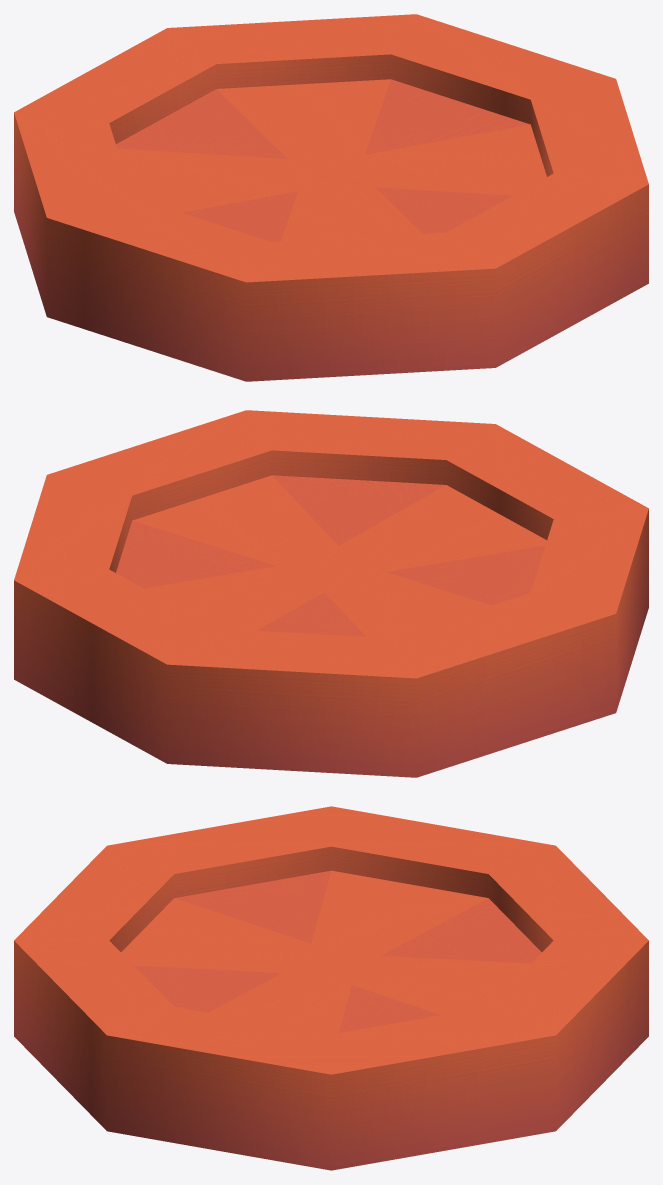
Rendered from tomato-slice.glb.
3 views of the same model, one above another, from view 1: azimuth 30°, elevation 25°; view 2: azimuth 150°, elevation 25°; view 3: azimuth 270°, elevation 25° (orthographic). The views are drawn at different scales.
Visible parts, largest first — view 1: tomato-slice; view 2: tomato-slice; view 3: tomato-slice.
Boxes of the visible parts, <box> form: tomato-slice: <box>14,14,648,381</box>; tomato-slice: <box>14,410,648,777</box>; tomato-slice: <box>14,806,648,1170</box>.
Bounding box in the file's own units: 0.18 × 0.03 × 0.18.
Materials: 1 (1 with a texture image).
